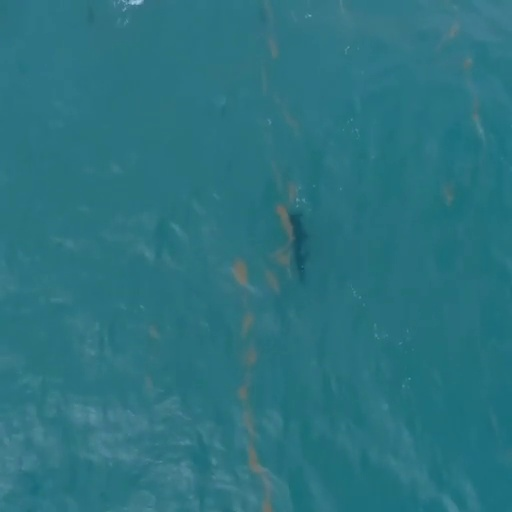shark: (281, 212, 313, 285)
